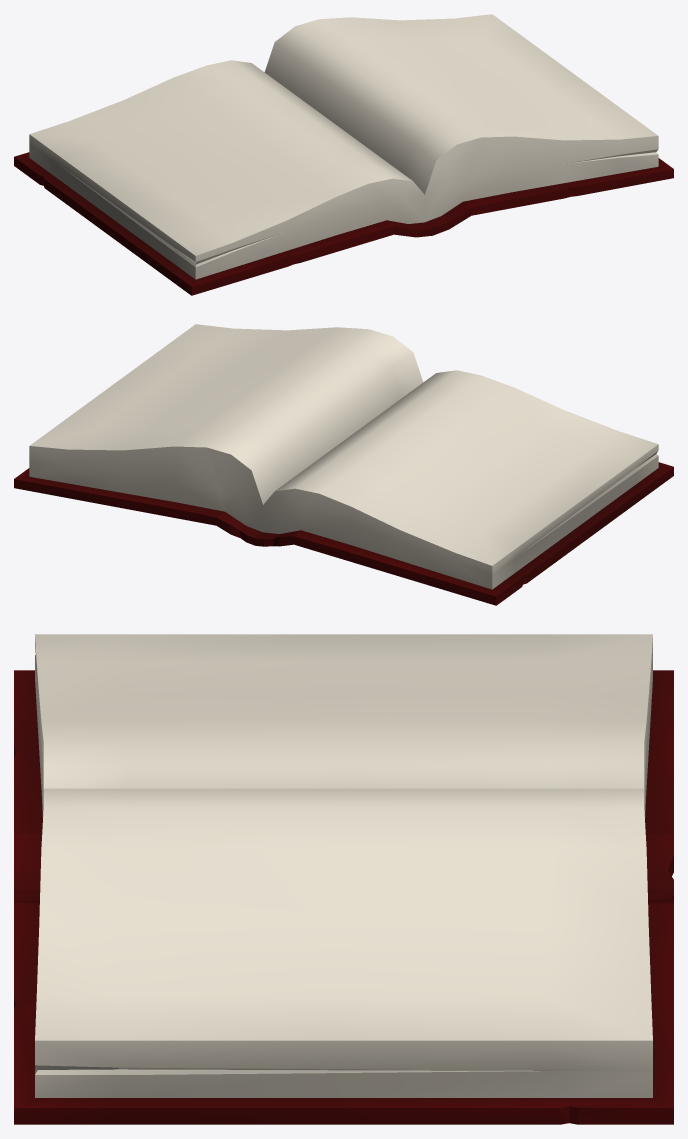
The model's file is obj_bookOpen_A.FBX.
3 views of the same model, one above another, from view 1: azimuth 30°, elevation 25°; view 2: azimuth 150°, elevation 25°; view 3: azimuth 270°, elevation 25° (orthographic). The views are drawn at different scales.
Parts seen in each view (by area): view 1: obj_bookOpen_A; view 2: obj_bookOpen_A; view 3: obj_bookOpen_A.
Part boxes in pixels (bbox=[...]): obj_bookOpen_A: bbox=[14, 14, 673, 295]; obj_bookOpen_A: bbox=[14, 324, 673, 605]; obj_bookOpen_A: bbox=[14, 634, 673, 1124].
Size of the model in its own units: 1.74 by 0.2818 by 1.11.
